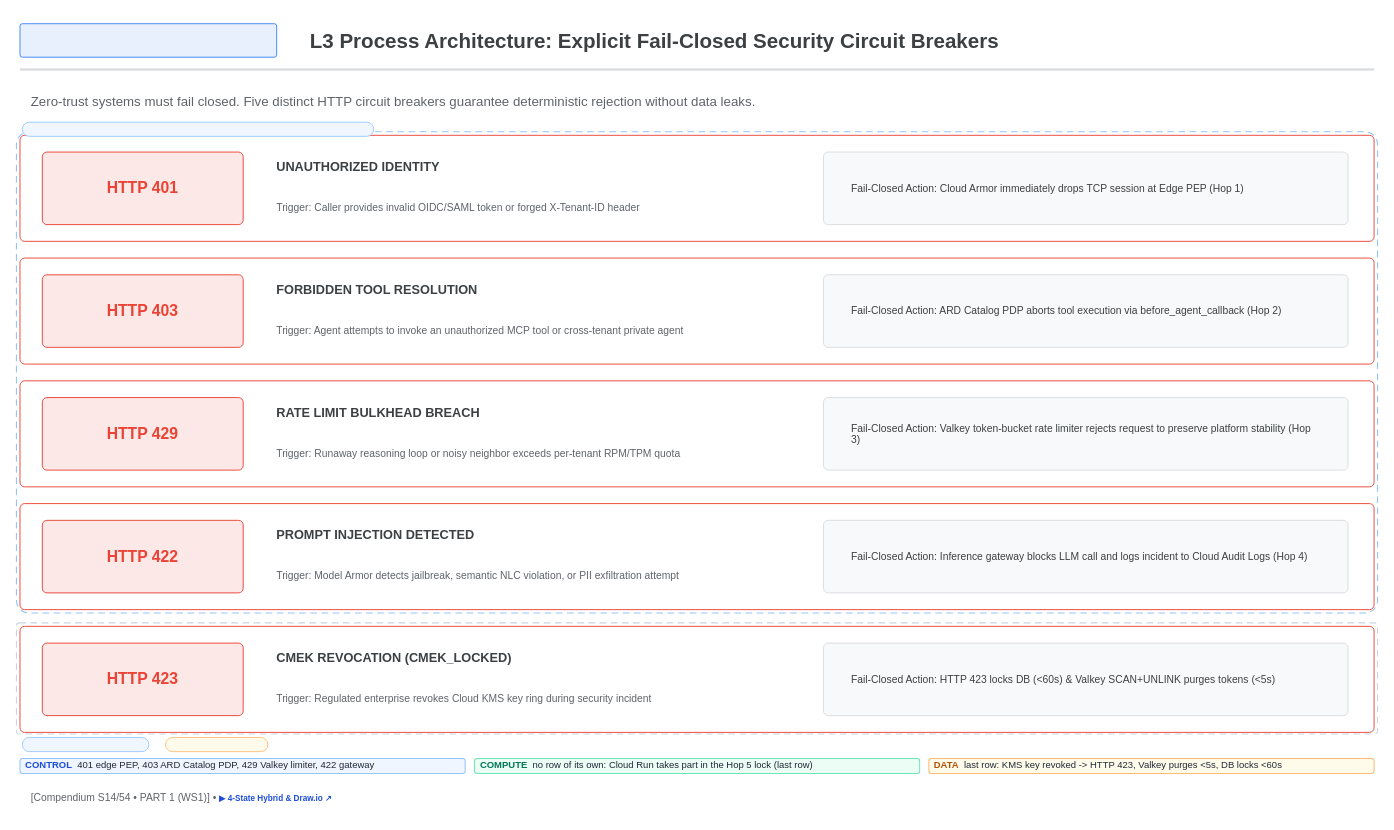
This 1394x830 diagram has some shape labels left out. The shapes that lost their labels are listed below. From the top down, each one's centre as x and y in pixels, then its label:
pixel 148 40: PART 1 • CIRCUIT BREAKERS
pixel 197 128: CONTROL · Hops 1–4: identity, tool policy, rate limit, prompt screen
pixel 85 744: CONTROL · key revoke
pixel 216 744: DATA · store lock
